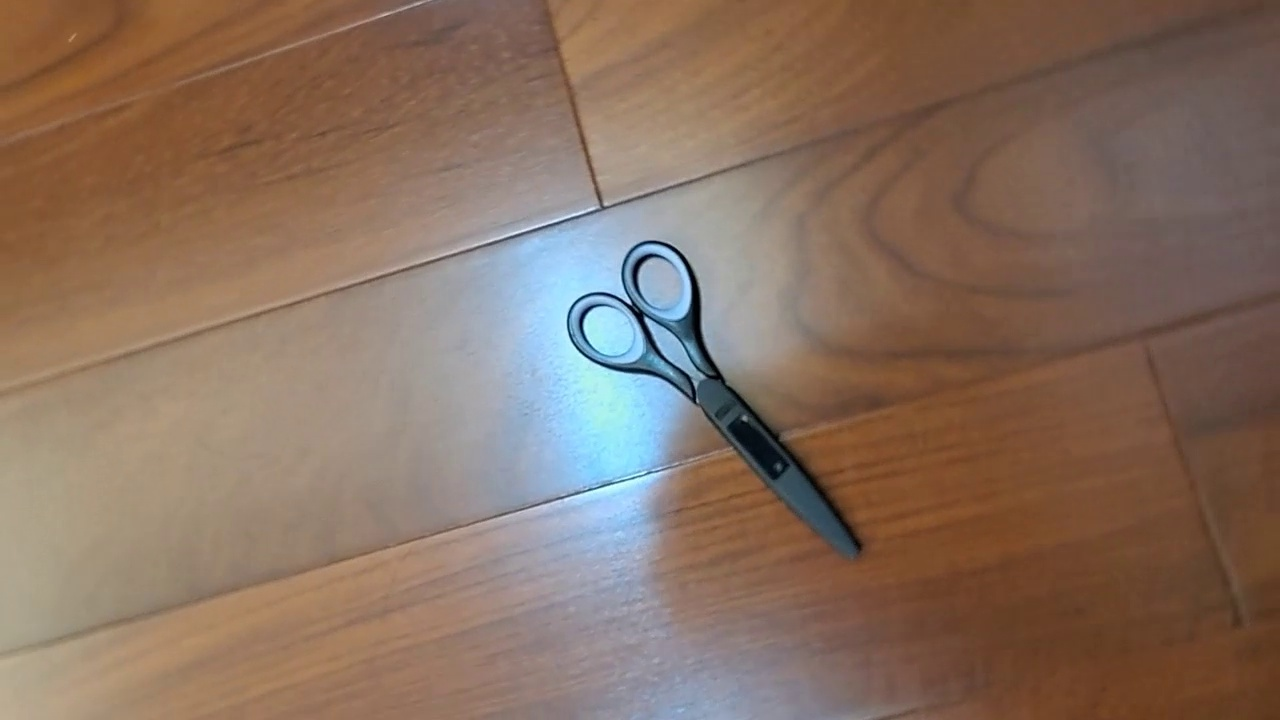scissors: (566, 239, 865, 563)
